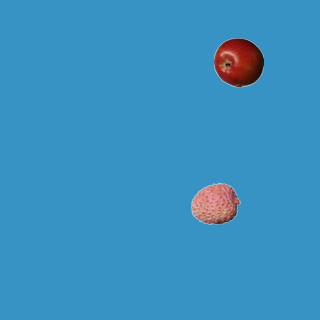Apple Braeburn: (213, 37, 263, 87)
Lychee: (190, 178, 240, 228)
